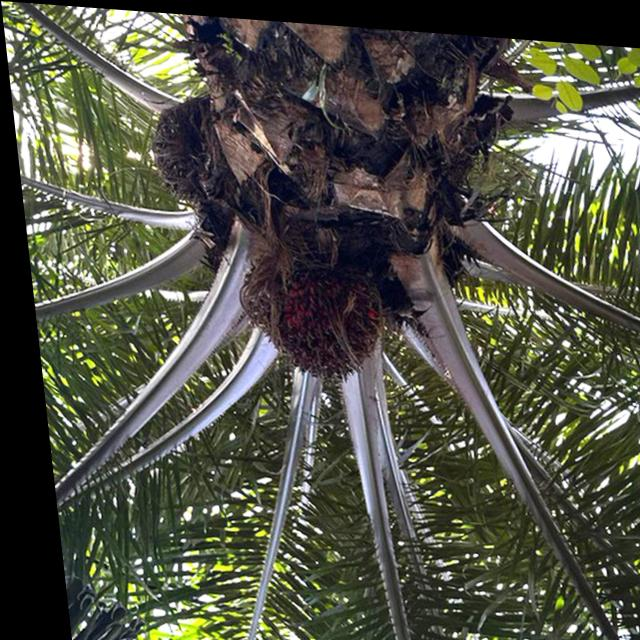ripe: (217, 228, 398, 403)
